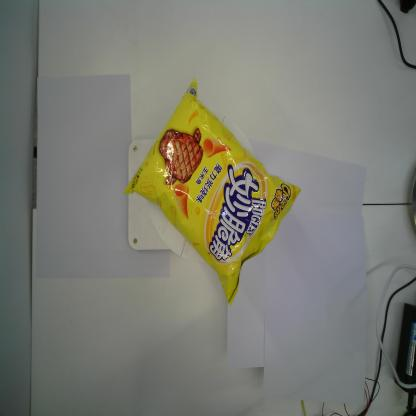Puffed Food: (122, 73, 303, 308)
